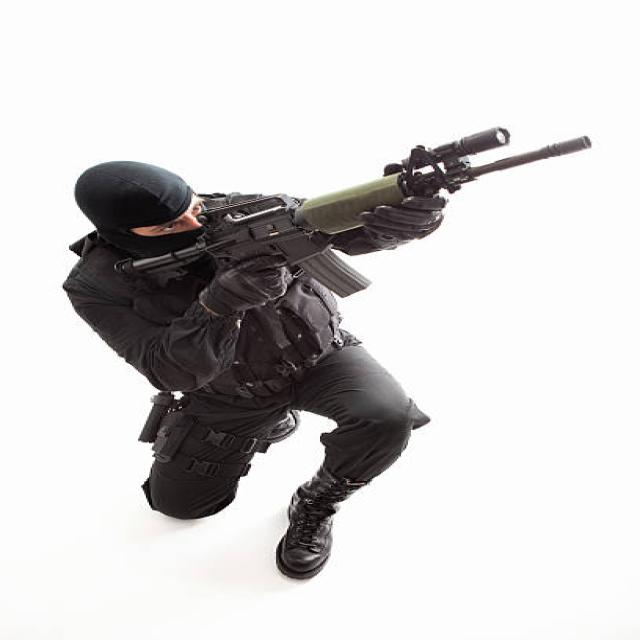soldier: (49, 123, 591, 583)
